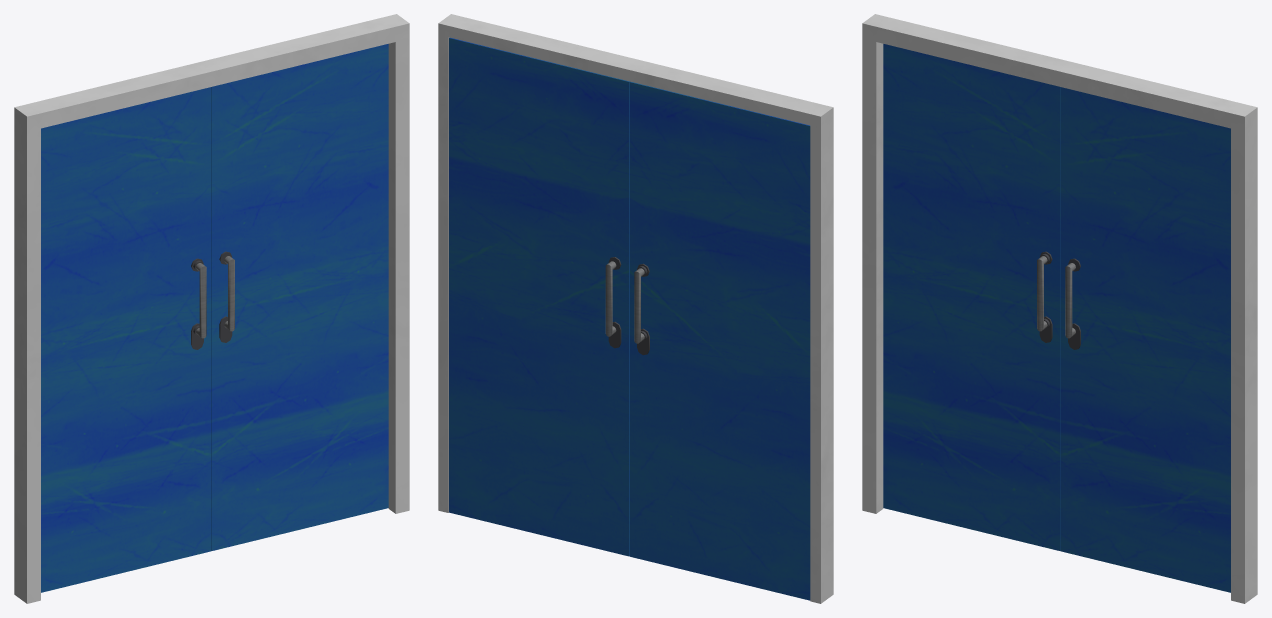
Rendered from DoorMisc.fbx.
3 renders of one model, left to right at view 1: azimuth 30°, elevation 25°; view 2: azimuth 150°, elevation 25°; view 3: azimuth 330°, elevation 25°, orthographic.
Parts seen in each view (by area): view 1: MiscDoor_3.001, MiscDoor_2.001, DoorMisc_1; view 2: MiscDoor_3.001, MiscDoor_2.001, DoorMisc_1; view 3: MiscDoor_2.001, MiscDoor_3.001, DoorMisc_1.
Boxes of the visible parts, x1,y1,x2,y2 form: MiscDoor_3.001: (211,44,388,551); MiscDoor_2.001: (41,87,210,592); DoorMisc_1: (14,14,409,603); MiscDoor_3.001: (449,37,629,556); MiscDoor_2.001: (630,81,810,600); DoorMisc_1: (438,14,833,603); MiscDoor_2.001: (883,44,1060,551); MiscDoor_3.001: (1061,87,1230,592); DoorMisc_1: (862,14,1257,603).
Bounding box in the file's own units: 173 × 210 × 15.57.
